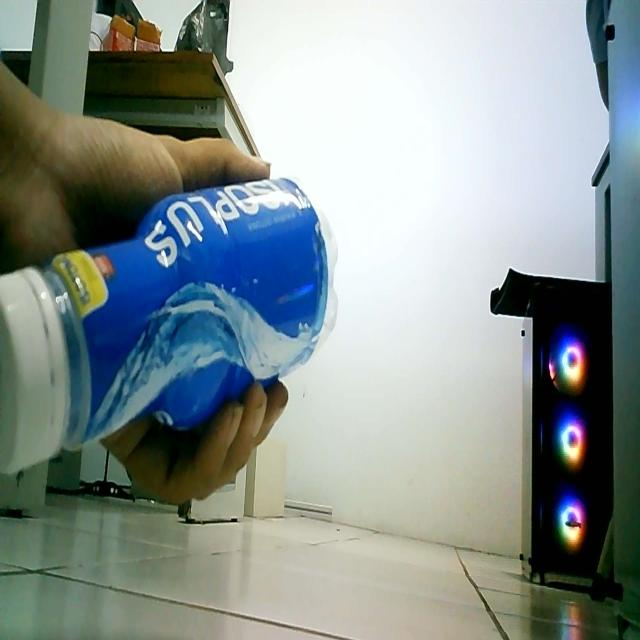botol: (1, 168, 346, 482)
